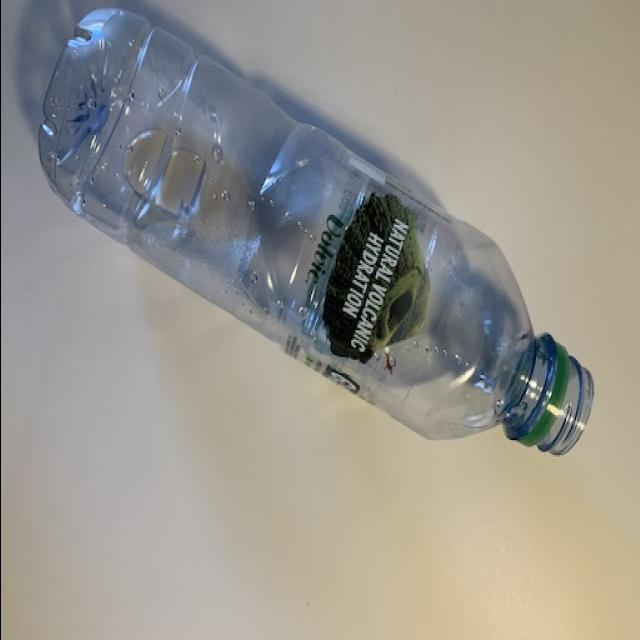PET: (39, 1, 594, 457)
